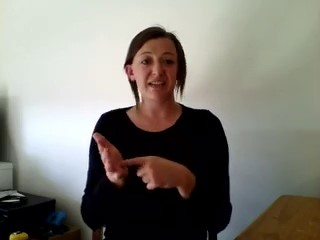T: (88, 129, 182, 193)
